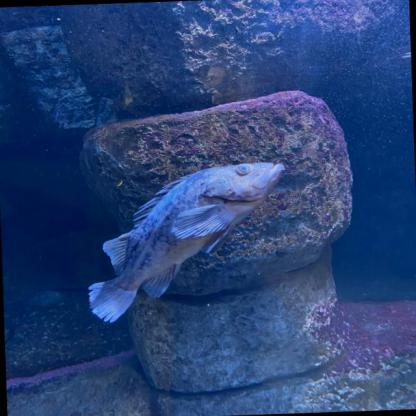fish: (84, 160, 288, 322)
